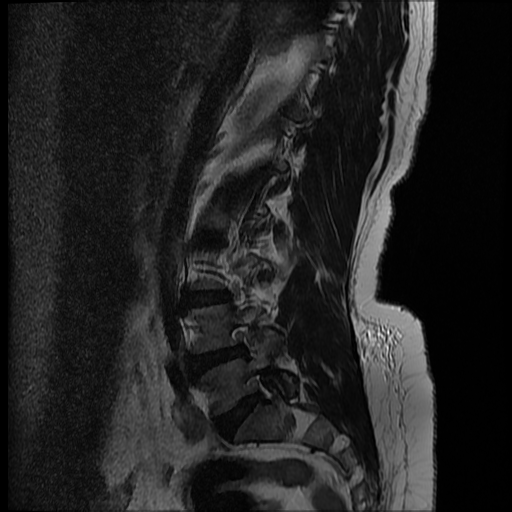RFS2: (227, 314, 259, 367)
